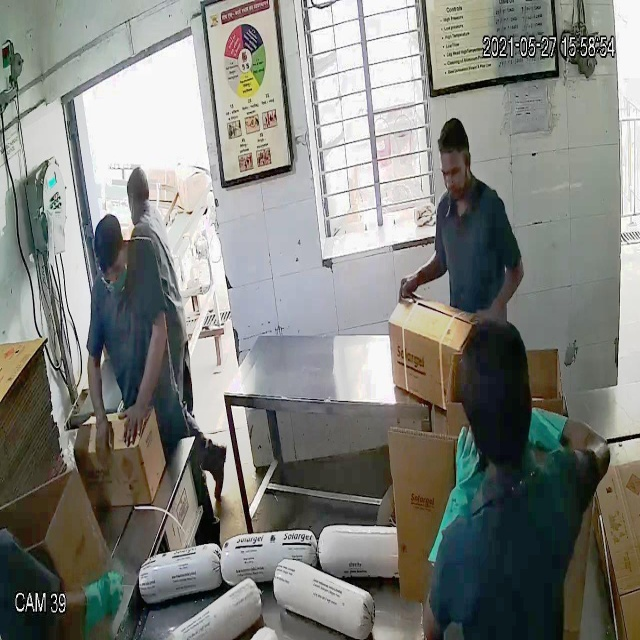Sin_gafas: (434, 157, 475, 189)
